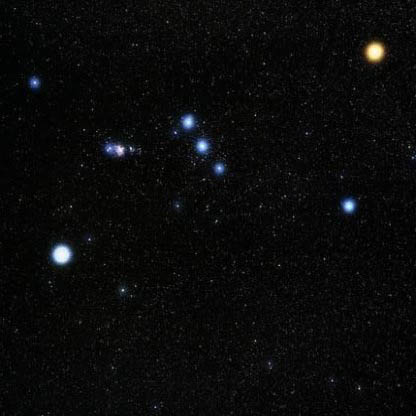Orion: (42, 230, 84, 275), (350, 35, 391, 68), (334, 190, 363, 222), (189, 137, 220, 156), (21, 71, 45, 94), (208, 157, 231, 181), (173, 109, 197, 128)
